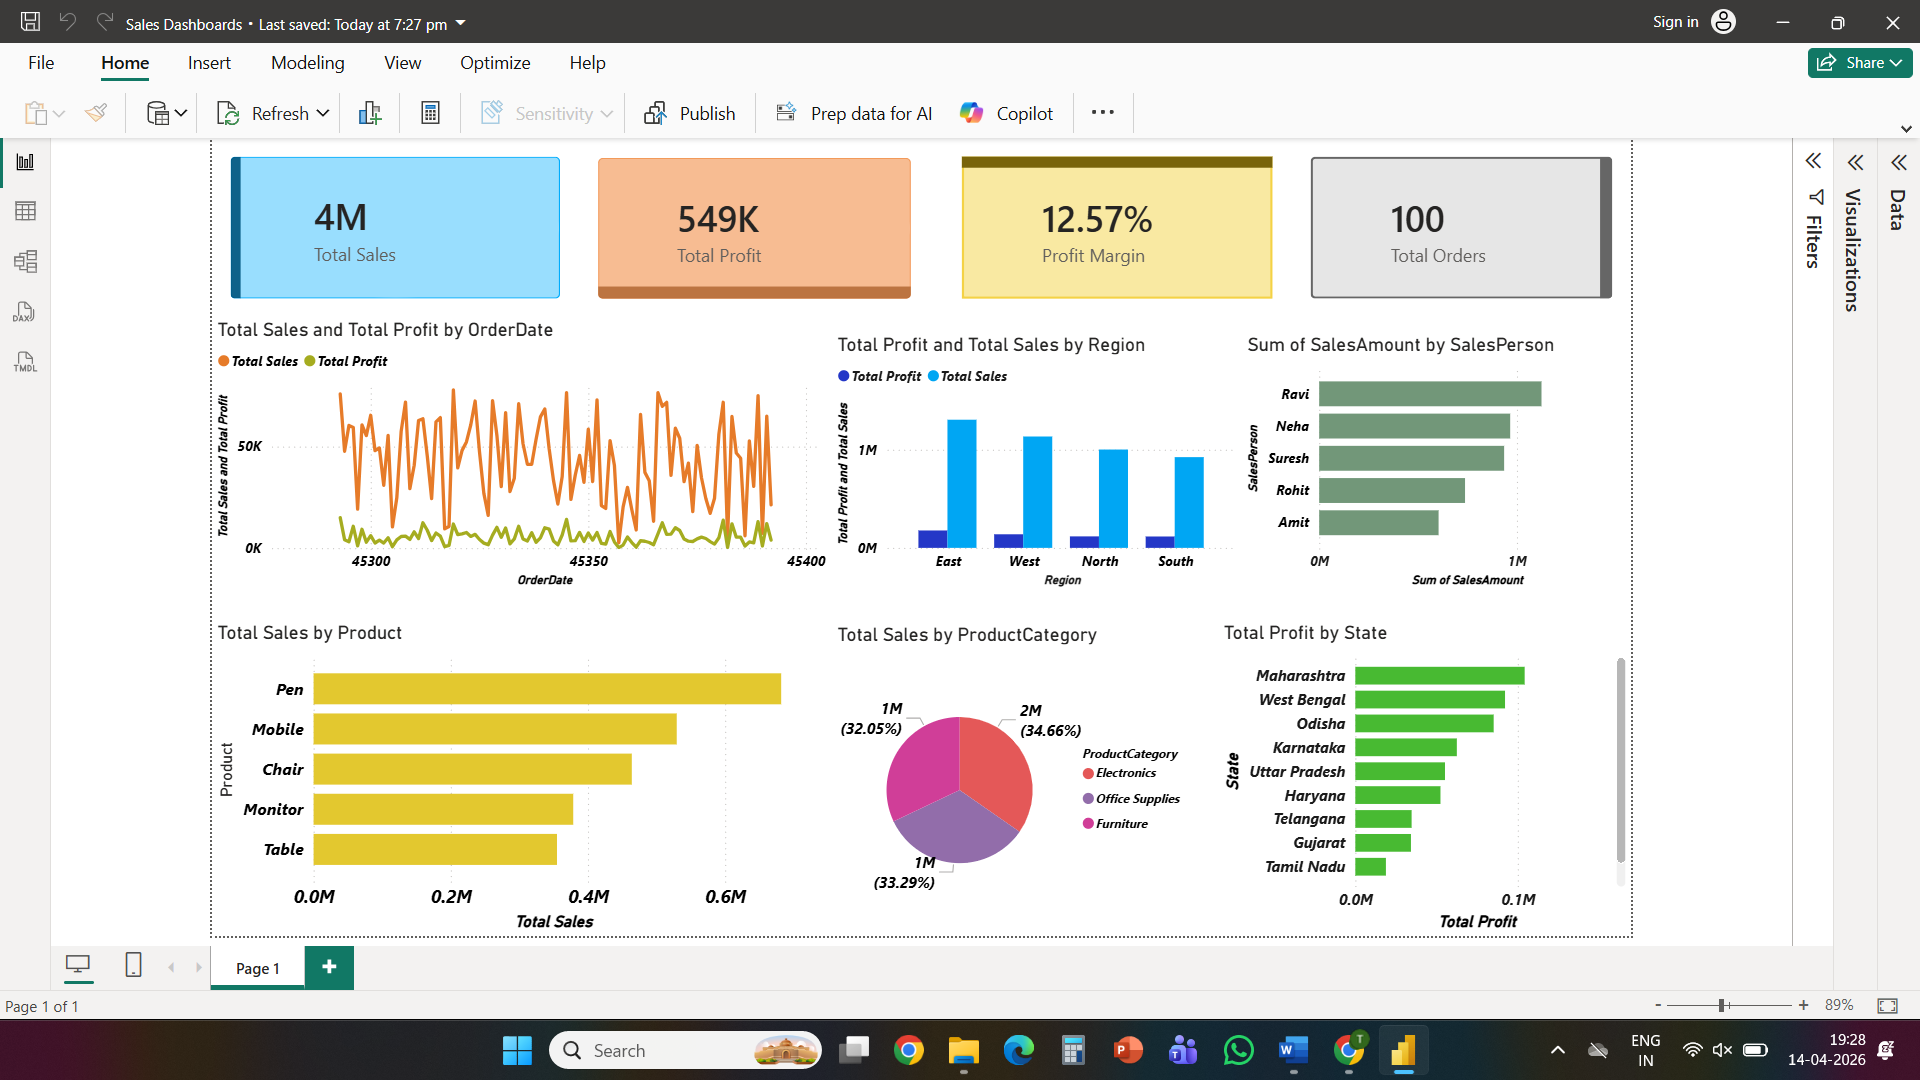

The dashboard page shown, as its layout file describes it:
{"tool":"powerbi","page":{"name":"Page 1","canvas":[1280,720],"ordinal":0},"visuals":[{"type":"cardVisual","fields":{"Data":["SalesData.Total Sales"]},"box":[0,0,331.4,162.6],"z":0},{"type":"cardVisual","fields":{"Data":["SalesData.Total Profit"]},"box":[331.4,1.2,316.7,161.4],"z":1000},{"type":"cardVisual","fields":{"Data":["SalesData.Profit Margin"]},"box":[659.1,0,314.3,162.6],"z":2000},{"type":"cardVisual","fields":{"Data":["SalesData.Total Orders"]},"box":[973.4,0,306.9,162.6],"z":3000},{"type":"pieChart","fields":{"Category":["SalesData.ProductCategory"],"Y":["SalesData.Total Sales"]},"box":[558.8,437.5,337.5,282.5],"z":4000},{"type":"clusteredBarChart","fields":{"Category":["SalesData.Product"],"Y":["SalesData.Total Sales"]},"box":[0,436.2,548.8,283.8],"z":5000},{"type":"clusteredColumnChart","fields":{"Category":["SalesData.Region"],"Y":["SalesData.Total Profit","SalesData.Total Sales"]},"box":[558.8,176.2,370,233.8],"z":6000},{"type":"lineChart","fields":{"Category":["SalesData.OrderDate"],"Y":["SalesData.Total Sales","SalesData.Total Profit"]},"box":[0,162.5,558.8,247.5],"z":7000},{"type":"clusteredBarChart","fields":{"Y":["SalesData.Total Profit"],"Category":["SalesData.State"]},"box":[907.5,436.2,372.5,283.8],"z":8000},{"type":"clusteredBarChart","fields":{"Category":["SalesData.SalesPerson"],"Y":["Sum(SalesData.SalesAmount)"]},"box":[928.8,176.2,351.2,233.8],"z":9000}]}

Visuals, with their boxes on the page's 1280x720 design canvas (x1, y1, x2, y2). These are canvas units, not pixel positions in the 1920x1080 screenshot, which may show the page scaled, cropped or inside an application window:
cardVisual - SalesData.Total Sales: [0, 0, 331, 163]
cardVisual - SalesData.Total Profit: [331, 1, 648, 163]
cardVisual - SalesData.Profit Margin: [659, 0, 973, 163]
cardVisual - SalesData.Total Orders: [973, 0, 1280, 163]
pieChart - SalesData.ProductCategory x SalesData.Total Sales: [559, 438, 896, 720]
clusteredBarChart - SalesData.Product x SalesData.Total Sales: [0, 436, 549, 720]
clusteredColumnChart - SalesData.Region x SalesData.Total Profit: [559, 176, 929, 410]
lineChart - SalesData.OrderDate x SalesData.Total Sales: [0, 162, 559, 410]
clusteredBarChart - SalesData.Total Profit x SalesData.State: [908, 436, 1280, 720]
clusteredBarChart - SalesData.SalesPerson x Sum(SalesData.SalesAmount): [929, 176, 1280, 410]
